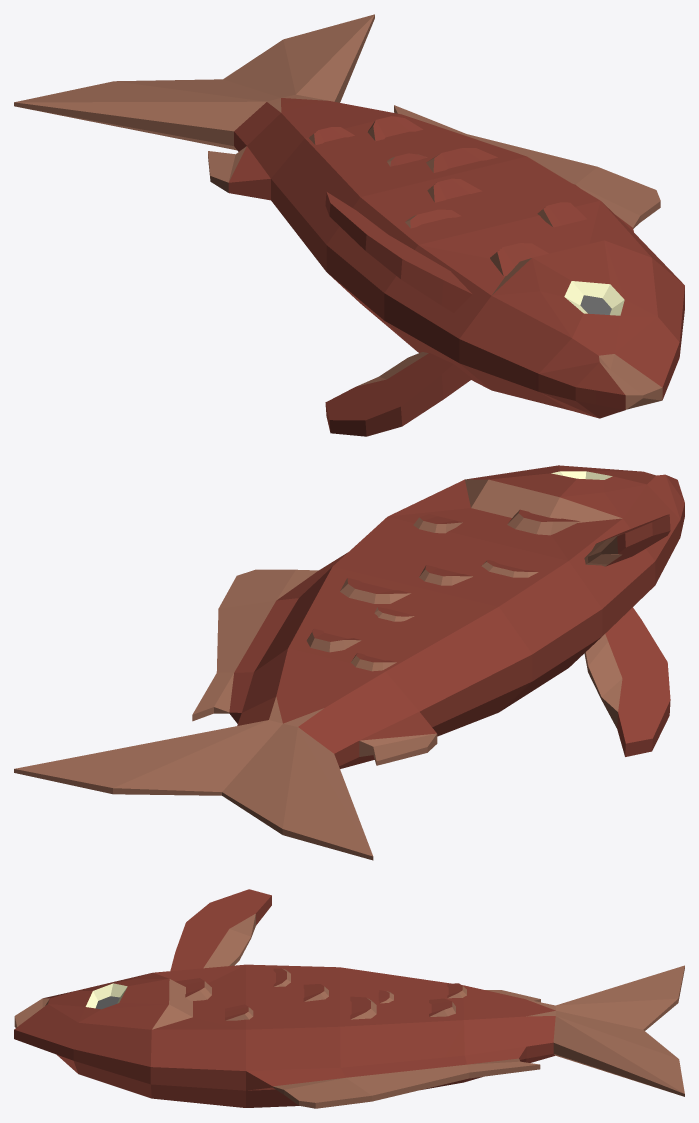
File: fish_1.FBX
3 renders of one model, top to bottom at view 1: azimuth 30°, elevation 25°; view 2: azimuth 150°, elevation 25°; view 3: azimuth 270°, elevation 25°, orthographic. The views are drawn at different scales.
Parts seen in each view (by area): view 1: fish_1; view 2: fish_1; view 3: fish_1.
Boxes of the visible parts, left/top/right/bottom form: fish_1: left=14, top=14, right=684, bottom=436; fish_1: left=14, top=465, right=684, bottom=860; fish_1: left=14, top=889, right=684, bottom=1108.
Size of the model in its own units: 17.68 by 9.98 by 36.06.
